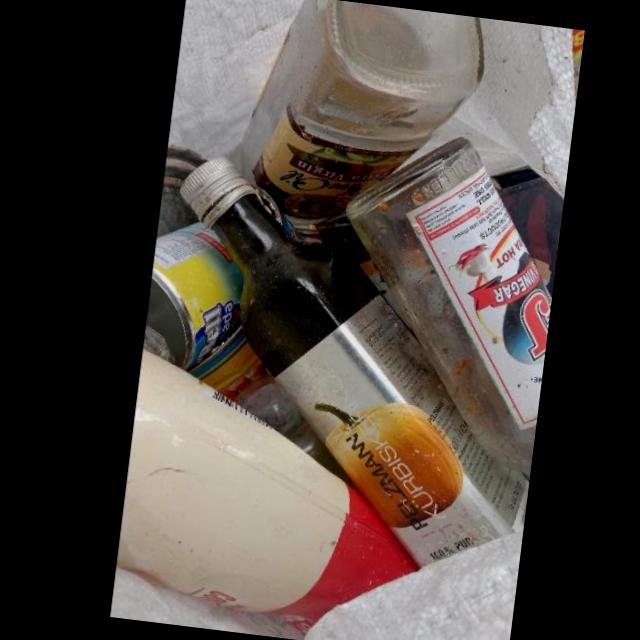chai_nhua: (116, 347, 420, 635)
chai_thuy_tinh: (225, 195, 530, 565), (346, 135, 552, 480), (227, 0, 486, 237)
nhom: (143, 220, 244, 373), (189, 303, 276, 399)
